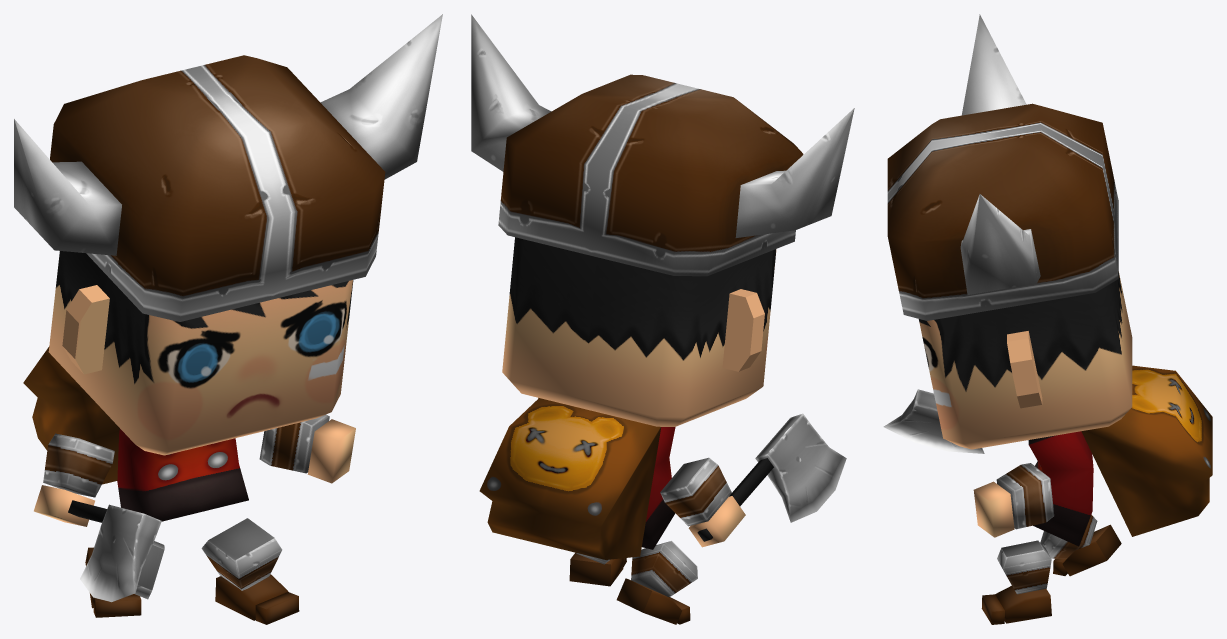
The model's file is mini_knight_000013.obj.
3 renders of one model, left to right at view 1: azimuth 30°, elevation 25°; view 2: azimuth 150°, elevation 25°; view 3: azimuth 270°, elevation 25°, orthographic. The views are drawn at different scales.
Parts seen in each view (by area): view 1: cap_Object01_Material__3, Mesh_objheadusOBJexport_Material, axe_Object02_Material__3, back_Object03_Material__3; view 2: cap_Object01_Material__3, Mesh_objheadusOBJexport_Material, back_Object03_Material__3, axe_Object02_Material__3; view 3: cap_Object01_Material__3, Mesh_objheadusOBJexport_Material, back_Object03_Material__3, axe_Object02_Material__3.
Boxes of the visible parts, x1,y1,x2,y2 form: cap_Object01_Material__3: (14, 14, 442, 321); Mesh_objheadusOBJexport_Material: (34, 251, 355, 624); axe_Object02_Material__3: (68, 500, 161, 602); back_Object03_Material__3: (23, 346, 119, 484); cap_Object01_Material__3: (471, 14, 854, 276); Mesh_objheadusOBJexport_Material: (502, 237, 776, 624); back_Object03_Material__3: (479, 398, 661, 559); axe_Object02_Material__3: (697, 413, 846, 541); cap_Object01_Material__3: (887, 14, 1118, 320); Mesh_objheadusOBJexport_Material: (918, 271, 1132, 624); back_Object03_Material__3: (1081, 365, 1212, 536); axe_Object02_Material__3: (883, 389, 984, 453).
Size of the model in its own units: 1.94 by 2.46 by 1.5.
